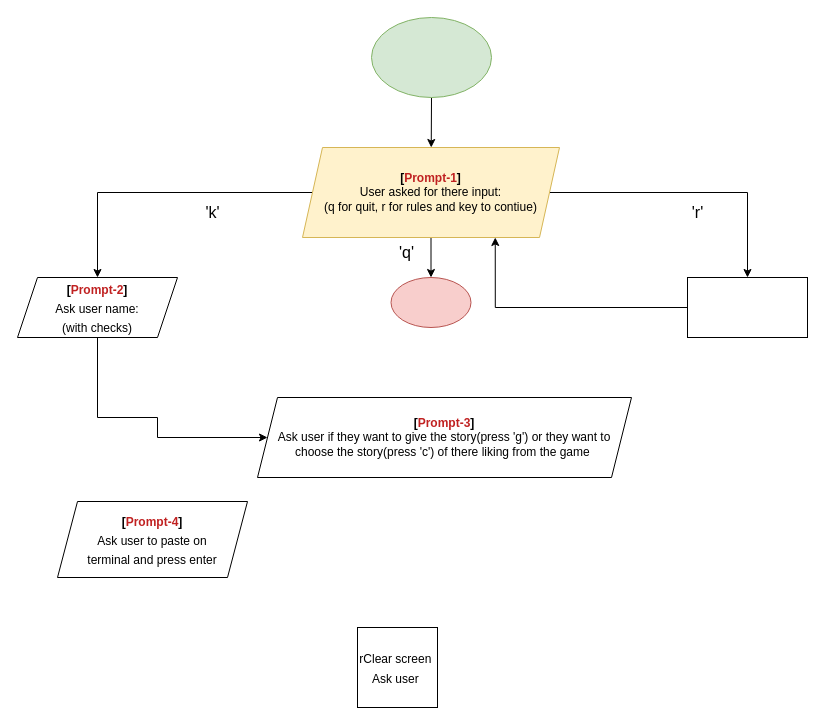
This 825x725 diagram has some shape labels left out. The shapes that lost their labels are listed below. From the top down, each one's box as (x1, y1, x2, y2) in pixels, then its label:
(370, 16, 492, 98): Game Starts
(390, 276, 471, 328): exit
(686, 276, 808, 338): Show rules of the game
